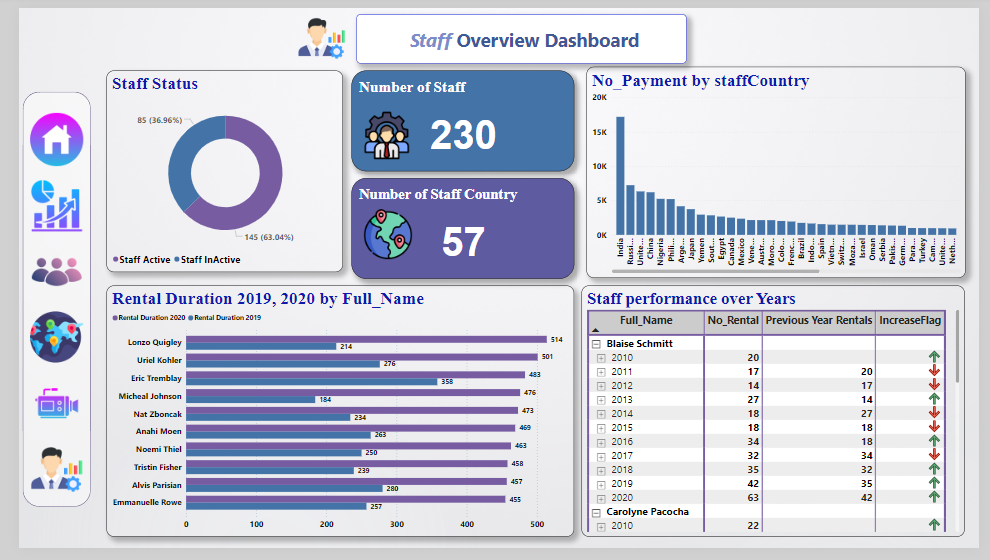

This screenshot's page, from the dashboard's own definition file:
{"tool":"tableau","page":{"name":"Staff","canvas":[1920,1080],"ordinal":6},"visuals":[{"type":"image","param":"D:/ITI intensive code camp/Graduation Project/Sakila/Tableau/navigation bar 5 sh","box":[8,8,1904,1064]},{"type":"worksheet","title":"# Rentals by staff continant","mark":"Bar","rows":["staffContinent"],"cols":["factRental_277D3C340DA44283803A628062DB8D6C","factRental_277D3C340DA44283803A628062DB8D6C"],"box":[641,29,519,389]},{"type":"worksheet","title":"Active Staff","mark":"Bar","cols":["dimStaff_D3A51EA6C66A4FC4986B0BCC5225B586","staffIsActive"],"box":[154,38,477,282]},{"type":"worksheet","title":"Period Rented by Staff Country","mark":"Automatic","rows":["staffCountry"],"cols":["Calculation_589127193684451334"],"box":[1229,38,519,369]},{"type":"legend","title":"Active Staff","param":"[federated.0l1fx9e0quqb8p1d9259202rjaje].[:Measure Names]","box":[152,225,567,69]},{"type":"worksheet","title":"Sales Growth KPI by store manager","mark":"Shape","rows":["Calculation_589127193664176130"],"cols":["Calculation_345651338750271495"],"box":[155,416,1653,452]},{"type":"dashboard-object","box":[734,823,185,123]},{"type":"dashboard-object","box":[1017,828,180,123]},{"type":"dashboard-object","box":[1298,828,180,123]},{"type":"dashboard-object","box":[1579,828,180,123]},{"type":"dashboard-object","box":[455,830,180,123]},{"type":"dashboard-object","box":[178,834,175,122]}]}

Visuals, with their boxes in screenshot pixels (x1, y1, x2, y2), scaled from the page's 1920x1080 canvas onto the 990x560 screenshot:
image: 4,4,986,556
"# Rentals by staff continant" worksheet (Bar marks): 331,15,598,217
"Active Staff" worksheet (Bar marks): 79,20,325,166
"Period Rented by Staff Country" worksheet: 634,20,901,211
"Active Staff" legend: 78,117,371,152
"Sales Growth KPI by store manager" worksheet (Shape marks): 80,216,932,450
dashboard-object: 378,427,474,491
dashboard-object: 524,429,617,493
dashboard-object: 669,429,762,493
dashboard-object: 814,429,907,493
dashboard-object: 235,430,327,494
dashboard-object: 92,432,182,496
